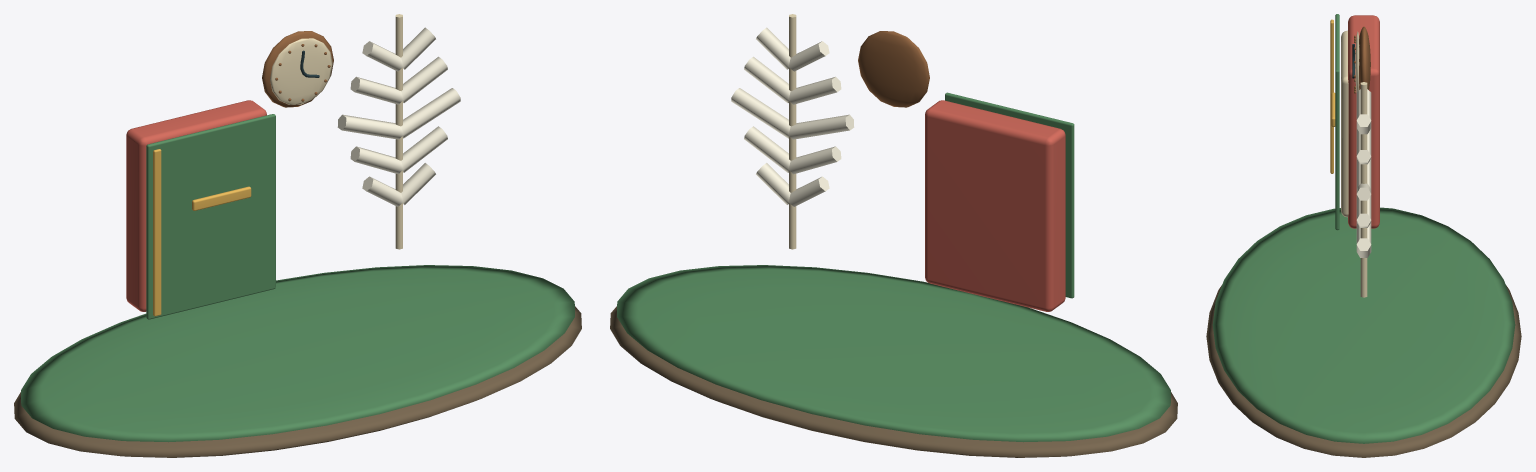
File: prepare-practice.glb
3 views of the same model, side by side, from view 1: azimuth 30°, elevation 25°; view 2: azimuth 150°, elevation 25°; view 3: azimuth 270°, elevation 25° (orthographic). The views are drawn at different scales.
Parts seen in each view (by area): view 1: prepare-practice_surface_01, prepare-practice_surface_00, prepare-practice_surface_05, prepare-practice_surface_02, prepare-practice_surface_03, prepare-practice_surface_04, prepare-practice_surface_06; view 2: prepare-practice_surface_01, prepare-practice_surface_02, prepare-practice_surface_00, prepare-practice_surface_05, prepare-practice_surface_06, prepare-practice_surface_03; view 3: prepare-practice_surface_01, prepare-practice_surface_00, prepare-practice_surface_02, prepare-practice_surface_03, prepare-practice_surface_05, prepare-practice_surface_06, prepare-practice_surface_04.
Boxes of the visible parts, x1,y1,x2,y2 form: prepare-practice_surface_01: (21,114,574,442); prepare-practice_surface_00: (14,306,581,457); prepare-practice_surface_05: (337,27,460,206); prepare-practice_surface_02: (126,100,266,311); prepare-practice_surface_03: (270,14,402,249); prepare-practice_surface_04: (153,149,251,316); prepare-practice_surface_06: (262,31,333,107); prepare-practice_surface_01: (617,92,1170,442); prepare-practice_surface_02: (925,100,1065,311); prepare-practice_surface_00: (610,306,1177,457); prepare-practice_surface_05: (731,27,854,206); prepare-practice_surface_06: (858,31,929,107); prepare-practice_surface_03: (789,14,796,249); prepare-practice_surface_01: (1212,14,1515,443); prepare-practice_surface_00: (1206,285,1521,457); prepare-practice_surface_02: (1348,15,1379,228); prepare-practice_surface_03: (1341,30,1367,297); prepare-practice_surface_05: (1356,89,1371,257); prepare-practice_surface_06: (1354,26,1370,93); prepare-practice_surface_04: (1330,19,1335,173).
Size of the model in its own units: 4.56 by 2.81 by 2.5.
